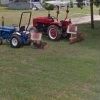Tractor: (25, 5, 92, 54)
